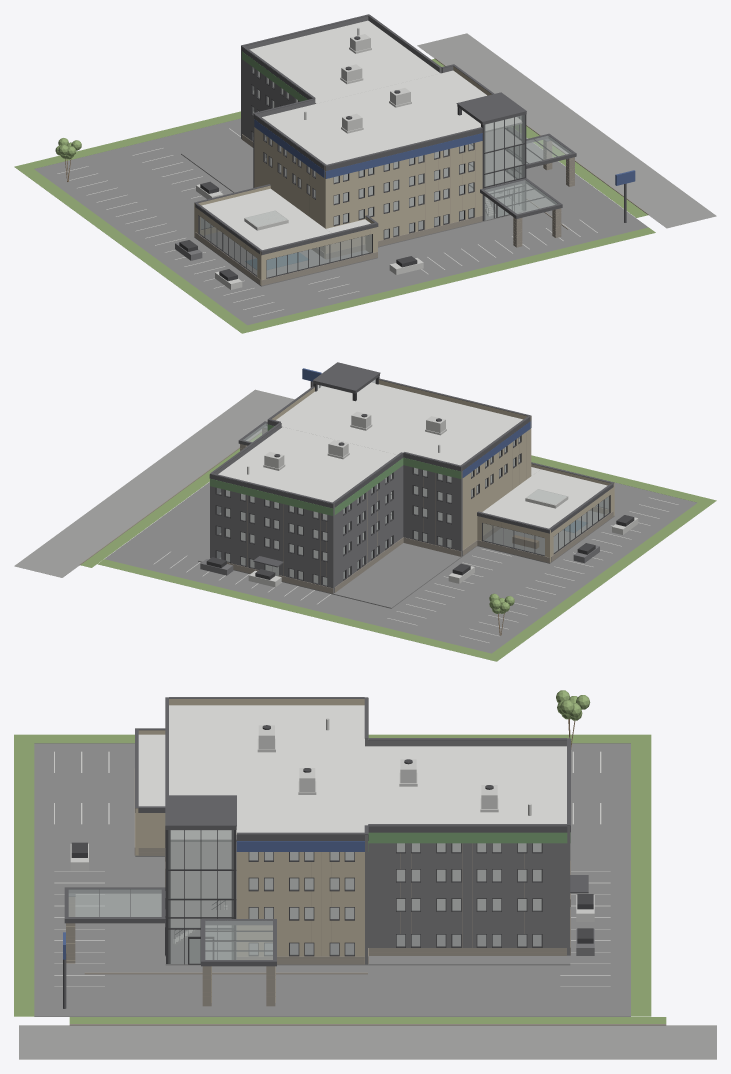
File: clay-limited-service-hotel-clay-v003.glb
3 views of the same model, one above another, from view 1: azimuth 30°, elevation 25°; view 2: azimuth 150°, elevation 25°; view 3: azimuth 270°, elevation 25° (orthographic). The views are drawn at different scales.
Parts seen in each view (by area): view 1: CLAY_FOUNDATION, CLAY_MEMBRANE, CLAY_WALL, CLAY_FLOOR, CLAY_GLASS, CLAY_PLANTING, CLAY_CAP, CLAY_TRIM, CLAY_PALE, CLAY_STONE, CLAY_CHARCOAL, CLAY_ACCENT (+1 smaller); view 2: CLAY_FOUNDATION, CLAY_MEMBRANE, CLAY_CHARCOAL, CLAY_FLOOR, CLAY_PLANTING, CLAY_WALL, CLAY_CAP, CLAY_GLASS, CLAY_TRIM, CLAY_PALE, CLAY_STONE, CLAY_GREEN (+2 smaller); view 3: CLAY_FOUNDATION, CLAY_MEMBRANE, CLAY_FLOOR, CLAY_CHARCOAL, CLAY_PLANTING, CLAY_GLASS, CLAY_WALL, CLAY_CAP, CLAY_TRIM, CLAY_STONE, CLAY_PALE, CLAY_GREEN (+2 smaller).
Part boxes in pixels (x1,y1,x2,y2): CLAY_FOUNDATION: (34, 118, 648, 325); CLAY_MEMBRANE: (201, 20, 521, 249); CLAY_WALL: (194, 66, 491, 285); CLAY_FLOOR: (253, 33, 716, 228); CLAY_GLASS: (199, 67, 571, 277); CLAY_PLANTING: (14, 59, 655, 333); CLAY_CAP: (194, 14, 626, 255); CLAY_TRIM: (179, 66, 557, 281); CLAY_PALE: (57, 27, 597, 316); CLAY_STONE: (195, 58, 648, 285); CLAY_CHARCOAL: (175, 16, 453, 260); CLAY_ACCENT: (254, 119, 635, 185); CLAY_FOUNDATION: (104, 463, 697, 653); CLAY_MEMBRANE: (218, 382, 607, 528); CLAY_CHARCOAL: (200, 422, 599, 593); CLAY_FLOOR: (14, 384, 519, 577); CLAY_PLANTING: (80, 432, 716, 661); CLAY_WALL: (271, 380, 614, 562); CLAY_CAP: (209, 362, 614, 567); CLAY_GLASS: (217, 379, 609, 585); CLAY_TRIM: (206, 376, 634, 586); CLAY_PALE: (153, 411, 678, 642); CLAY_STONE: (79, 428, 613, 593); CLAY_GREEN: (210, 424, 461, 515); CLAY_FOUNDATION: (34, 743, 630, 1016); CLAY_MEMBRANE: (138, 705, 566, 839); CLAY_FLOOR: (19, 830, 716, 1059); CLAY_CHARCOAL: (365, 738, 594, 964); CLAY_PLANTING: (14, 690, 666, 1023); CLAY_GLASS: (68, 830, 541, 963); CLAY_WALL: (135, 699, 364, 963); CLAY_CAP: (63, 697, 588, 1008); CLAY_TRIM: (71, 826, 593, 964); CLAY_STONE: (66, 768, 666, 1025); CLAY_PALE: (54, 718, 610, 986); CLAY_GREEN: (368, 832, 570, 851).
Bounding box in the file's own units: 76 × 15.55 × 69.5.
